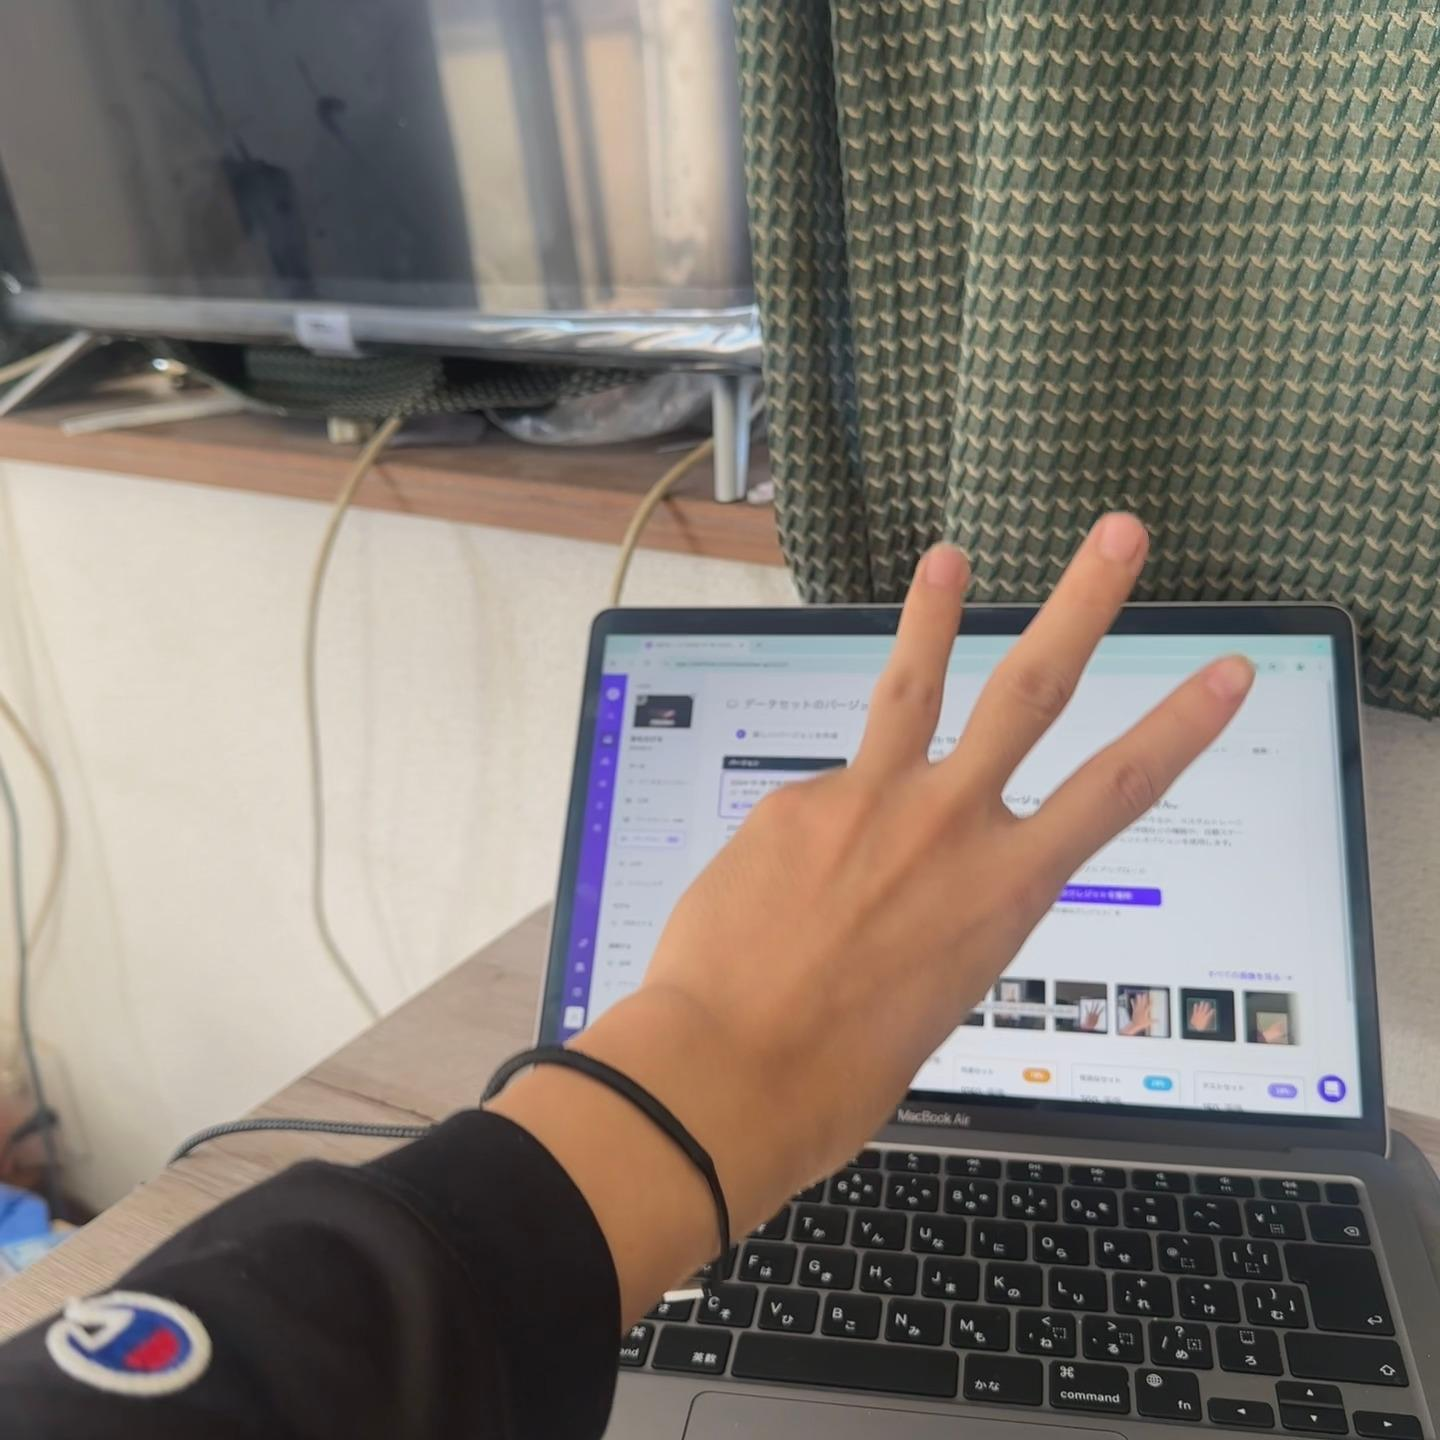without_gloves: (595, 348, 1312, 1270)
